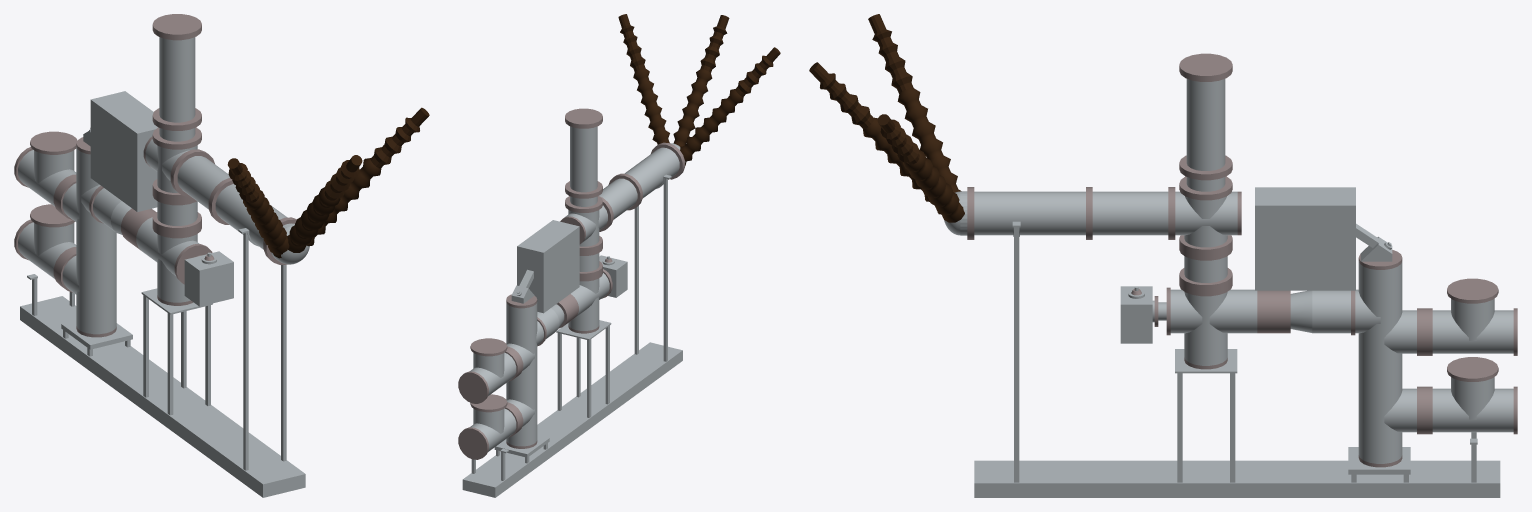
File: 11. 倒数第二个架子下的设备.FBX
3 views of the same model, side by side, from view 1: azimuth 30°, elevation 25°; view 2: azimuth 150°, elevation 25°; view 3: azimuth 270°, elevation 25° (orthographic). The views are drawn at different scales.
Parts seen in each view (by area): view 1: Obj3d66-1032738-1794-76, Obj3d66-1032738-1786-348, Obj3d66-1032738-1798-262, Obj3d66-1032738-1796-861, Obj3d66-1032738-1795-115, Obj3d66-1032738-1832-504, Obj3d66-1032738-1827-179, Obj3d66-1032738-1813-701, Obj3d66-1032738-1816-179, Obj3d66-1032738-1817-62, Obj3d66-1032738-1790-53, Obj3d66-1032738-1802-82 (+22 smaller); view 2: Obj3d66-1032738-1794-76, Obj3d66-1032738-1786-348, Obj3d66-1032738-1798-262, Obj3d66-1032738-1796-861, Obj3d66-1032738-1795-115, Obj3d66-1032738-1832-504, Obj3d66-1032738-1827-179, Obj3d66-1032738-1817-62, Obj3d66-1032738-1816-179, Obj3d66-1032738-1790-53, Obj3d66-1032738-1815-476, Obj3d66-1032738-1818-297 (+15 smaller); view 3: Obj3d66-1032738-1794-76, Obj3d66-1032738-1798-262, Obj3d66-1032738-1795-115, Obj3d66-1032738-1786-348, Obj3d66-1032738-1796-861, Obj3d66-1032738-1827-179, Obj3d66-1032738-1832-504, Obj3d66-1032738-1817-62, Obj3d66-1032738-1816-179, Obj3d66-1032738-1802-82, Obj3d66-1032738-1825-550, Obj3d66-1032738-1813-701 (+13 smaller).
Boxes of the visible parts, <box> form: Obj3d66-1032738-1794-76: <box>20,296,305,497</box>; Obj3d66-1032738-1786-348: <box>227,107,429,258</box>; Obj3d66-1032738-1798-262: <box>90,91,157,211</box>; Obj3d66-1032738-1796-861: <box>76,147,116,334</box>; Obj3d66-1032738-1795-115: <box>145,139,287,249</box>; Obj3d66-1032738-1832-504: <box>159,37,195,141</box>; Obj3d66-1032738-1827-179: <box>157,145,197,302</box>; Obj3d66-1032738-1813-701: <box>184,251,233,306</box>; Obj3d66-1032738-1816-179: <box>18,150,79,221</box>; Obj3d66-1032738-1817-62: <box>18,222,79,294</box>; Obj3d66-1032738-1790-53: <box>243,232,248,470</box>; Obj3d66-1032738-1802-82: <box>81,184,131,234</box>; Obj3d66-1032738-1794-76: <box>462,342,682,497</box>; Obj3d66-1032738-1786-348: <box>618,14,780,165</box>; Obj3d66-1032738-1798-262: <box>517,220,579,313</box>; Obj3d66-1032738-1796-861: <box>506,302,537,446</box>; Obj3d66-1032738-1795-115: <box>564,147,679,242</box>; Obj3d66-1032738-1832-504: <box>570,126,597,206</box>; Obj3d66-1032738-1827-179: <box>568,210,599,330</box>; Obj3d66-1032738-1817-62: <box>470,399,534,451</box>; Obj3d66-1032738-1816-179: <box>470,343,534,396</box>; Obj3d66-1032738-1790-53: <box>663,178,667,361</box>; Obj3d66-1032738-1815-476: <box>458,371,488,403</box>; Obj3d66-1032738-1818-297: <box>458,427,488,459</box>; Obj3d66-1032738-1794-76: <box>974,460,1500,497</box>; Obj3d66-1032738-1798-262: <box>1255,187,1355,290</box>; Obj3d66-1032738-1795-115: <box>974,191,1237,235</box>; Obj3d66-1032738-1786-348: <box>809,14,964,222</box>; Obj3d66-1032738-1796-861: <box>1358,261,1402,463</box>; Obj3d66-1032738-1827-179: <box>1184,196,1227,365</box>; Obj3d66-1032738-1832-504: <box>1186,79,1225,191</box>; Obj3d66-1032738-1817-62: <box>1384,388,1513,432</box>; Obj3d66-1032738-1816-179: <box>1384,310,1513,353</box>; Obj3d66-1032738-1802-82: <box>1290,289,1380,333</box>; Obj3d66-1032738-1825-550: <box>1170,289,1257,333</box>; Obj3d66-1032738-1813-701: <box>1120,286,1152,343</box>.
Size of the model in its own units: 2363 by 4315 by 6552.
